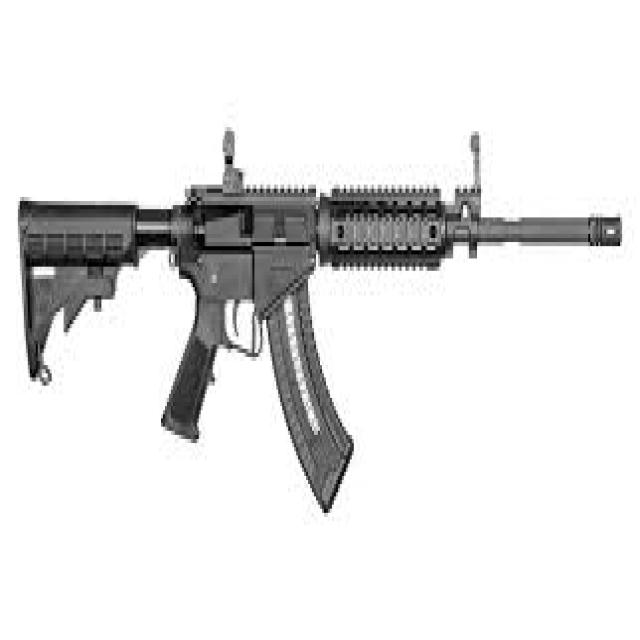rifle: (12, 120, 628, 528)
